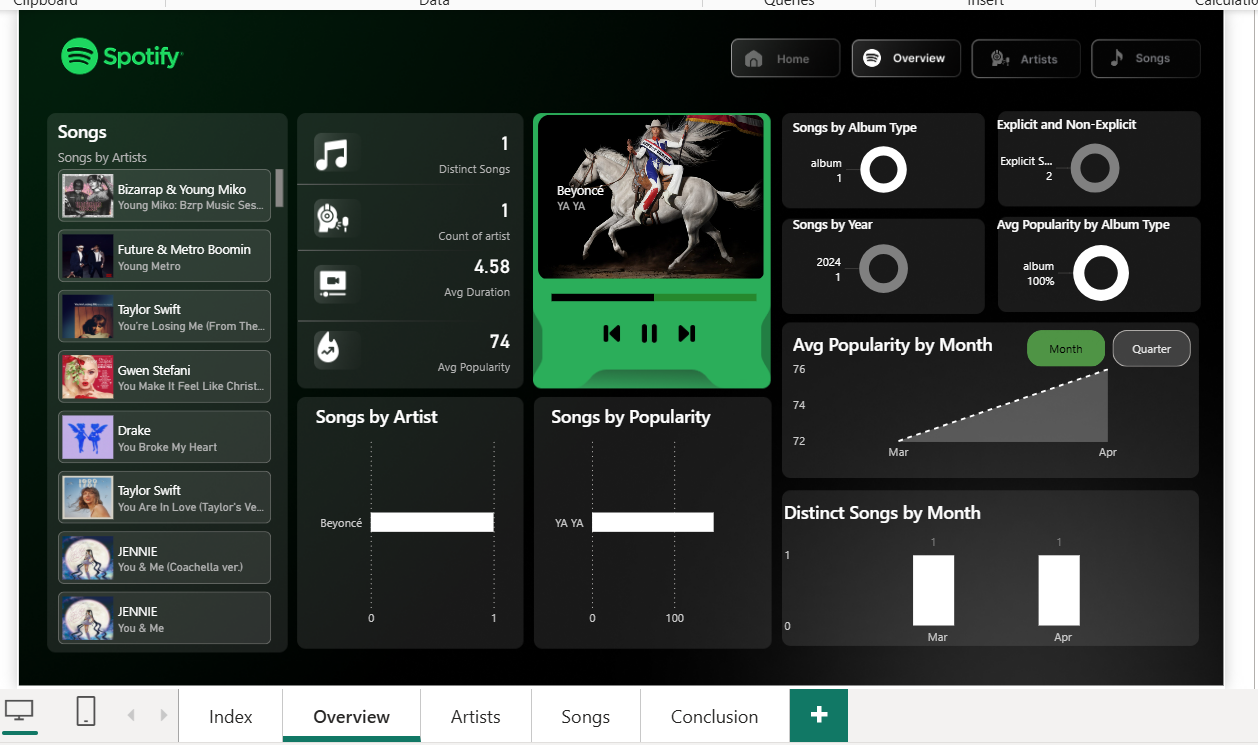

Layout of this report page (visuals, bound fields, positions):
{"tool":"powerbi","page":{"name":"Overview","canvas":[1280,720],"ordinal":1},"visuals":[{"type":"clusteredBarChart","title":"Songs by Artist","fields":{"Y":["_Measures.Distinct Songs"],"Category":["Top-50-World.artist"]},"box":[311.8,417.6,215.4,243.8],"z":0},{"type":"clusteredBarChart","title":"Songs by Popularity","fields":{"Y":["Sum(Top-50-World.popularity)"],"Category":["Top-50-World.song"]},"box":[561.3,417.6,215.4,243.8],"z":1000},{"type":"areaChart","fields":{"Category":["Top-50-World.Qtr"],"Y":["_Measures.Avg Popularity"]},"box":[817.6,342,432.6,144.7],"z":2000},{"type":"advancedSlicerVisual","fields":{"Values":["Slicer_Option.Slicer_Option"]},"box":[1065.7,334,184.5,49.3],"z":3000},{"type":"donutChart","title":"Songs by Album Type","fields":{"Category":["Top-50-World.album_type"],"Y":["_Measures.Distinct Songs"]},"box":[817.6,114.5,202,90.7],"z":4000},{"type":"donutChart","title":"Explicit and Non-Explicit","fields":{"Y":["_Measures.Explicit Songs","_Measures.Non-Explicit Songs"]},"box":[1033.9,111.3,217.9,93.8],"z":5000},{"type":"donutChart","title":"Songs by Year","fields":{"Category":["Top-50-World.Year"],"Y":["_Measures.Distinct Songs"]},"box":[817.6,217.9,202,93.8],"z":6000},{"type":"donutChart","title":"Avg Popularity by Album Type","fields":{"Category":["Top-50-World.album_type"],"Y":["_Measures.Avg Popularity"]},"box":[1033.9,217.9,230.6,103.4],"z":7000},{"type":"clusteredColumnChart","fields":{"Category":["Top-50-World.Qtr"],"Y":["_Measures.Distinct Songs"]},"box":[808,520.1,451.7,162.2],"z":8000},{"type":"cardVisual","fields":{"Data":["_Measures.Distinct Songs"]},"box":[419.9,111.3,120.9,70],"z":9000},{"type":"cardVisual","fields":{"Data":["Count(Top-50-World.artist)"]},"box":[419.9,182.9,120.9,70],"z":10000},{"type":"cardVisual","fields":{"Data":["_Measures.Avg Duration Minutes"]},"box":[419.9,241.8,120.9,70],"z":11000},{"type":"cardVisual","fields":{"Data":["_Measures.Avg Popularity"]},"box":[419.9,321.3,120.9,70],"z":12000},{"type":"image","box":[313.4,335.6,42.9,42.9],"z":13000},{"type":"image","box":[313.4,198.8,42.9,42.9],"z":14000},{"type":"image","box":[311.8,132,43,43],"z":15000},{"type":"image","box":[313.4,268.8,42.9,42.9],"z":16000},{"type":"advancedSlicerVisual","title":"Songs","fields":{"Values":["Top-50-World.song"]},"box":[38.2,116.1,249.7,566.3],"z":17000},{"type":"advancedSlicerVisual","title":"Songs","fields":{"Values":["Top-50-World.song"]},"box":[526.5,105,291.1,186.1],"z":18000},{"type":"hundredPercentStackedBarChart","fields":{"Y":["_Measures.Avg Popularity","Avg(Top-50-World.popularity)"]},"box":[561.5,265.6,227.5,71.6],"z":19000},{"type":"image","box":[690.3,327.7,39.8,30.2],"z":20000},{"type":"image","box":[610.8,327.7,39.8,30.2],"z":21000},{"type":"image","box":[650.6,327.7,39.8,30.2],"z":22000},{"type":"shape","box":[548.8,106.6,248.1,291.1],"z":23000},{"type":"actionButton","box":[759.3,29.7,114.5,39.8],"z":24000},{"type":"actionButton","box":[1016.9,29.7,100.2,39.8],"z":25000},{"type":"actionButton","box":[1141,29.7,111.3,39.8],"z":26000},{"type":"actionButton","box":[888.1,34.5,114.5,36.6],"z":27000}]}

Visuals, with their boxes on the page's 1280x720 design canvas (x1, y1, x2, y2). These are canvas units, not pixel positions in the 1258x745 screenshot, which may show the page scaled, cropped or inside an application window:
"Songs by Artist" clusteredBarChart: bbox=[312, 418, 527, 661]
"Songs by Popularity" clusteredBarChart: bbox=[561, 418, 777, 661]
areaChart - Top-50-World.Qtr x _Measures.Avg Popularity: bbox=[818, 342, 1250, 487]
advancedSlicerVisual - Slicer_Option.Slicer_Option: bbox=[1066, 334, 1250, 383]
"Songs by Album Type" donutChart: bbox=[818, 114, 1020, 205]
"Explicit and Non-Explicit" donutChart: bbox=[1034, 111, 1252, 205]
"Songs by Year" donutChart: bbox=[818, 218, 1020, 312]
"Avg Popularity by Album Type" donutChart: bbox=[1034, 218, 1264, 321]
clusteredColumnChart - Top-50-World.Qtr x _Measures.Distinct Songs: bbox=[808, 520, 1260, 682]
cardVisual - _Measures.Distinct Songs: bbox=[420, 111, 541, 181]
cardVisual - Count(Top-50-World.artist): bbox=[420, 183, 541, 253]
cardVisual - _Measures.Avg Duration Minutes: bbox=[420, 242, 541, 312]
cardVisual - _Measures.Avg Popularity: bbox=[420, 321, 541, 391]
image: bbox=[313, 336, 356, 378]
image: bbox=[313, 199, 356, 242]
image: bbox=[312, 132, 355, 175]
image: bbox=[313, 269, 356, 312]
"Songs" advancedSlicerVisual: bbox=[38, 116, 288, 682]
"Songs" advancedSlicerVisual: bbox=[526, 105, 818, 291]
hundredPercentStackedBarChart - _Measures.Avg Popularity x Avg(Top-50-World.popularity): bbox=[562, 266, 789, 337]
image: bbox=[690, 328, 730, 358]
image: bbox=[611, 328, 651, 358]
image: bbox=[651, 328, 690, 358]
shape: bbox=[549, 107, 797, 398]
actionButton: bbox=[759, 30, 874, 70]
actionButton: bbox=[1017, 30, 1117, 70]
actionButton: bbox=[1141, 30, 1252, 70]
actionButton: bbox=[888, 34, 1003, 71]
